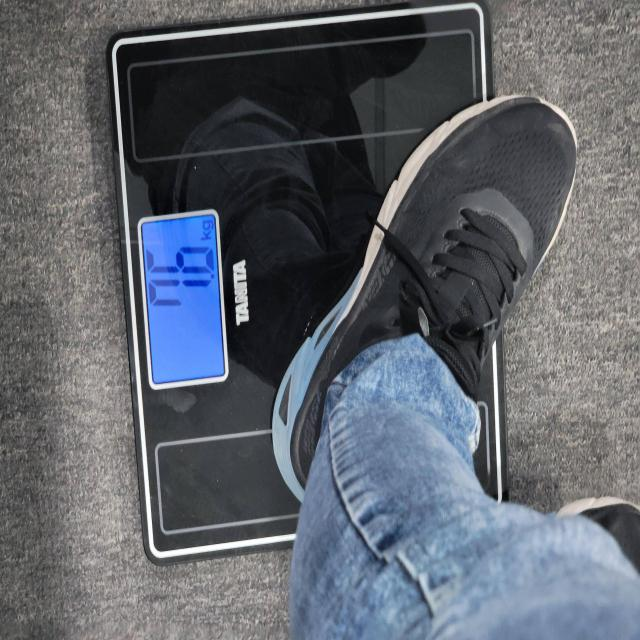ws: (0, 0, 594, 640)
